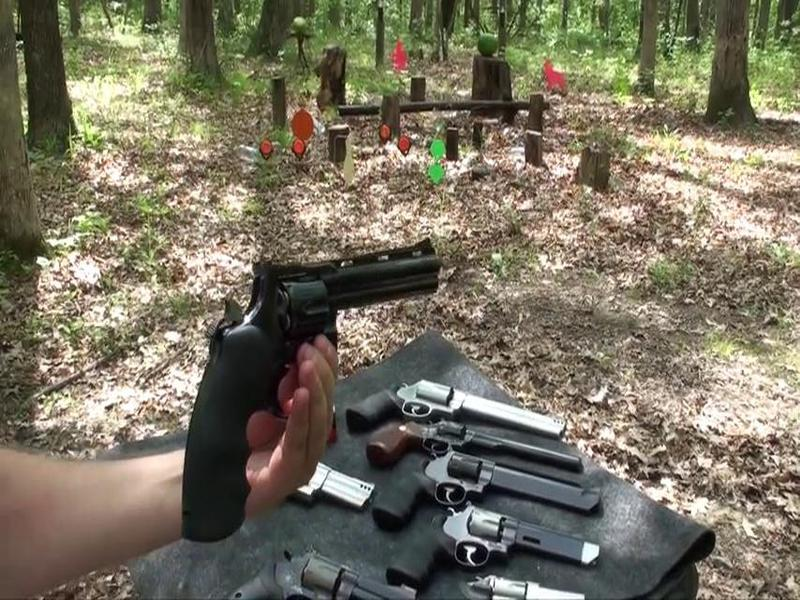Revolver: (165, 218, 447, 552)
